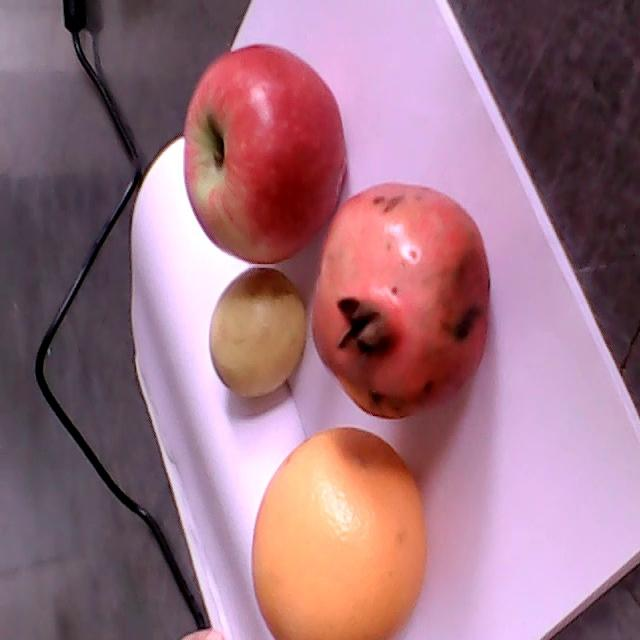apple: (183, 44, 348, 265)
lemon: (209, 268, 306, 397)
orange: (310, 183, 491, 420), (252, 427, 428, 638)
